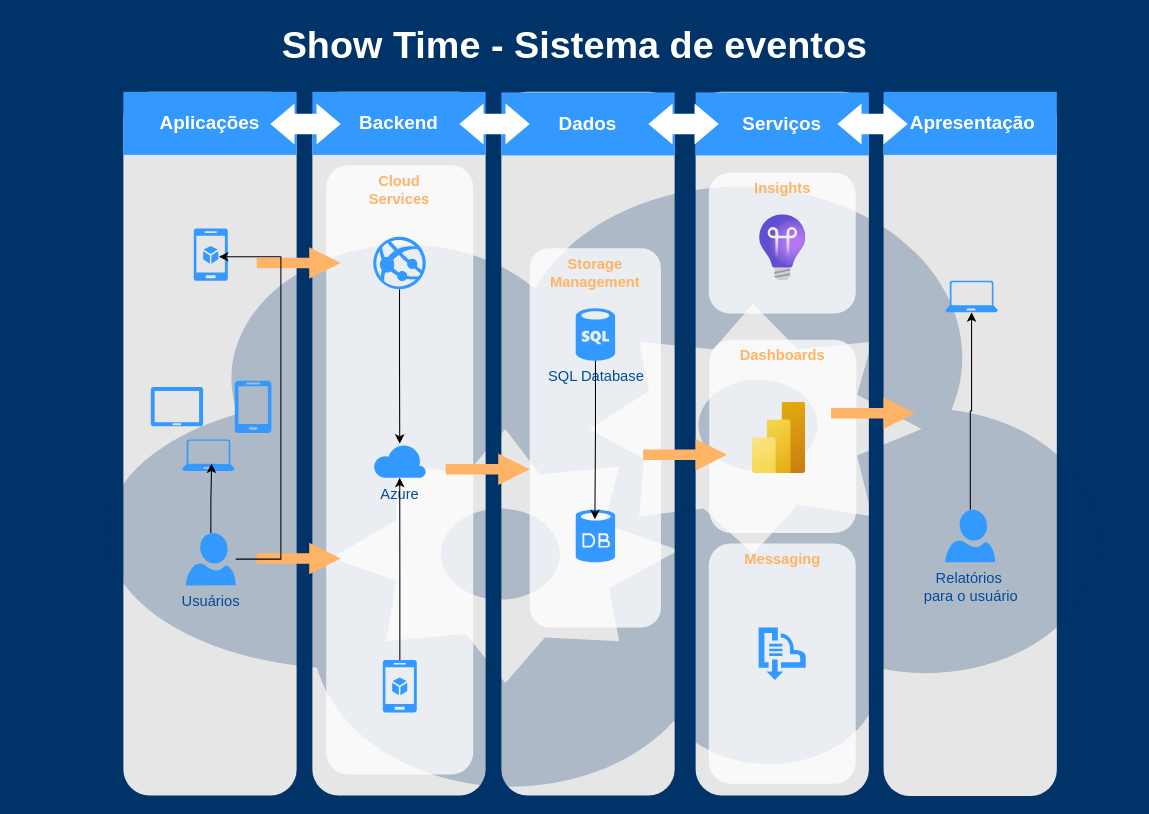
This 1149x814 diagram has some shape labels left out. The centre of each missing label's shape, as x and y in pixels:
"Aplicação (Cielo LIO)" goes at point (210, 254).
"Azure Website - Portal - Backend (Multitenant)" goes at point (399, 262).
"Database" goes at point (595, 535).
"Mobile Services" goes at point (399, 685).
"Service Bus" goes at point (781, 653).
"Web Dashboards" goes at point (971, 296).
"Web Portal" goes at point (208, 454).
